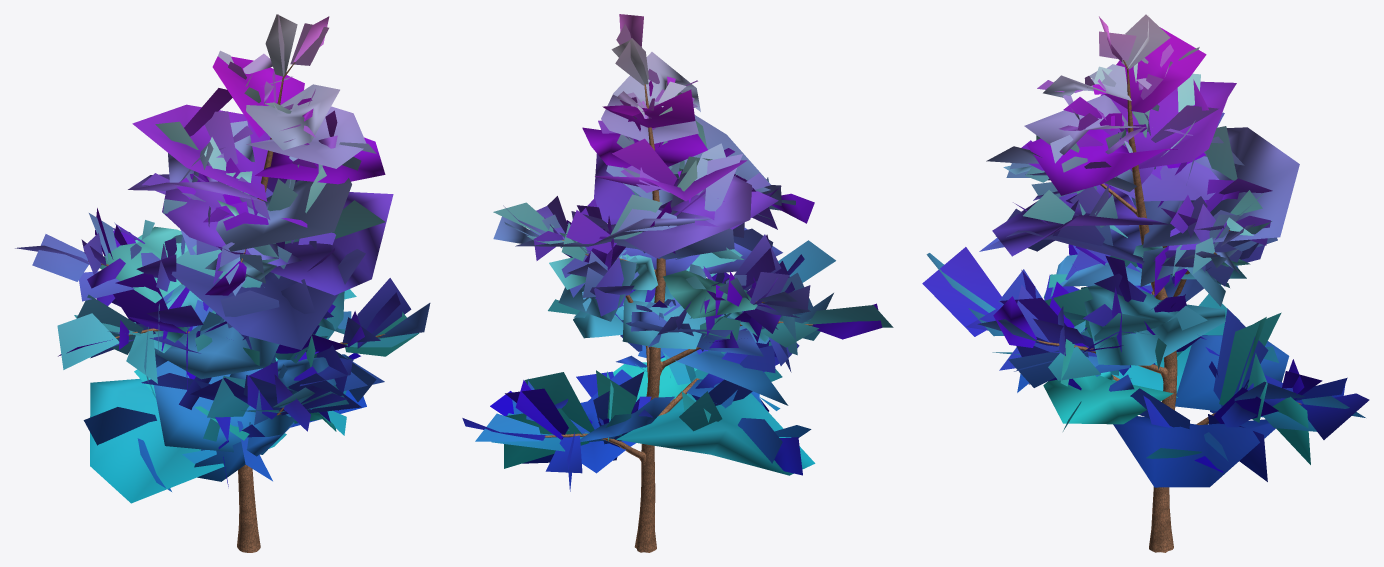
File: PineYoung.fbx
The picture shows the model from 3 angles, left to right: view 1: azimuth 30°, elevation 25°; view 2: azimuth 150°, elevation 25°; view 3: azimuth 270°, elevation 25°; orthographic projection. The views are drawn at different scales.
Visible parts, largest first — view 1: PineYoung_LOD0; view 2: PineYoung_LOD0; view 3: PineYoung_LOD0.
Part boxes in pixels (x1,y1,x2,y2): PineYoung_LOD0: [15, 14, 430, 552]; PineYoung_LOD0: [462, 14, 893, 552]; PineYoung_LOD0: [922, 14, 1369, 552].
Size of what is drawn, in the model's own units: 2.95 by 4.2 by 3.1.
